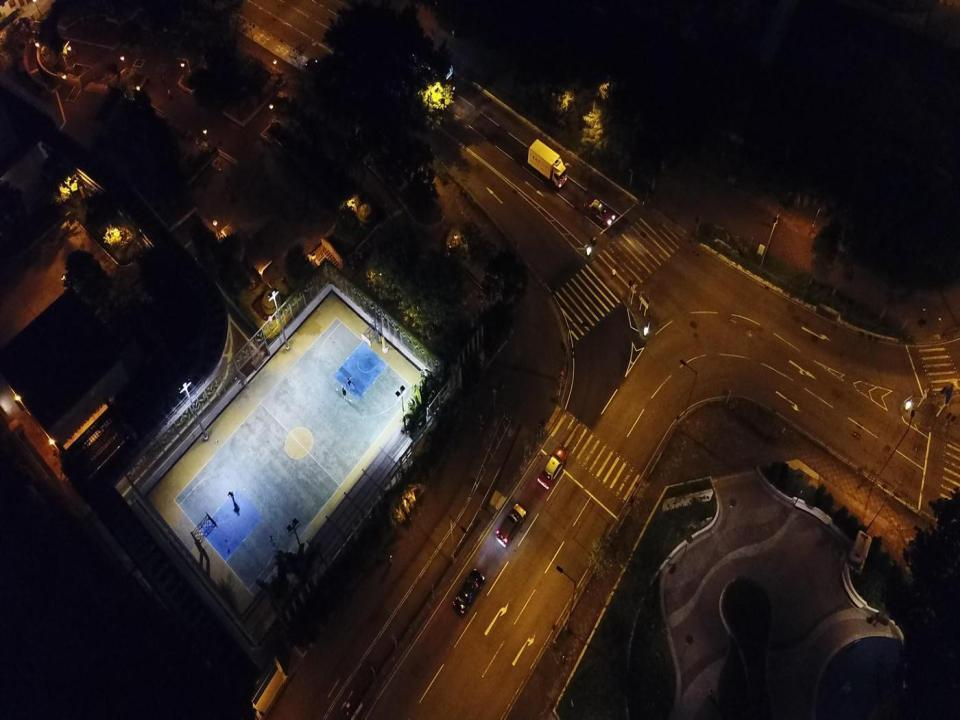car: (452, 567, 485, 617), (494, 503, 528, 548), (536, 445, 569, 490), (583, 196, 616, 228)
truck: (527, 138, 567, 189)
